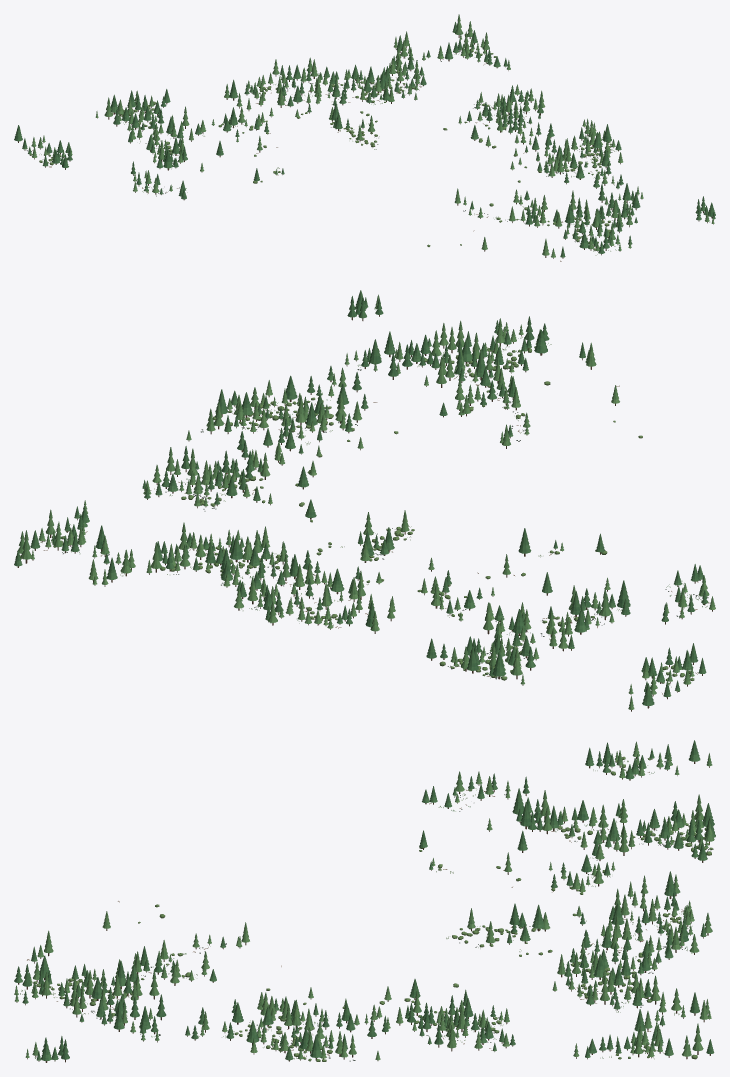
The model's file is Foliage_P3.fbx.
3 renders of one model, top to bottom at view 1: azimuth 30°, elevation 25°; view 2: azimuth 150°, elevation 25°; view 3: azimuth 270°, elevation 25°, orthographic. The views are drawn at different scales.
Bounding box in the file's own units: 61605 × 6652 × 61187.
